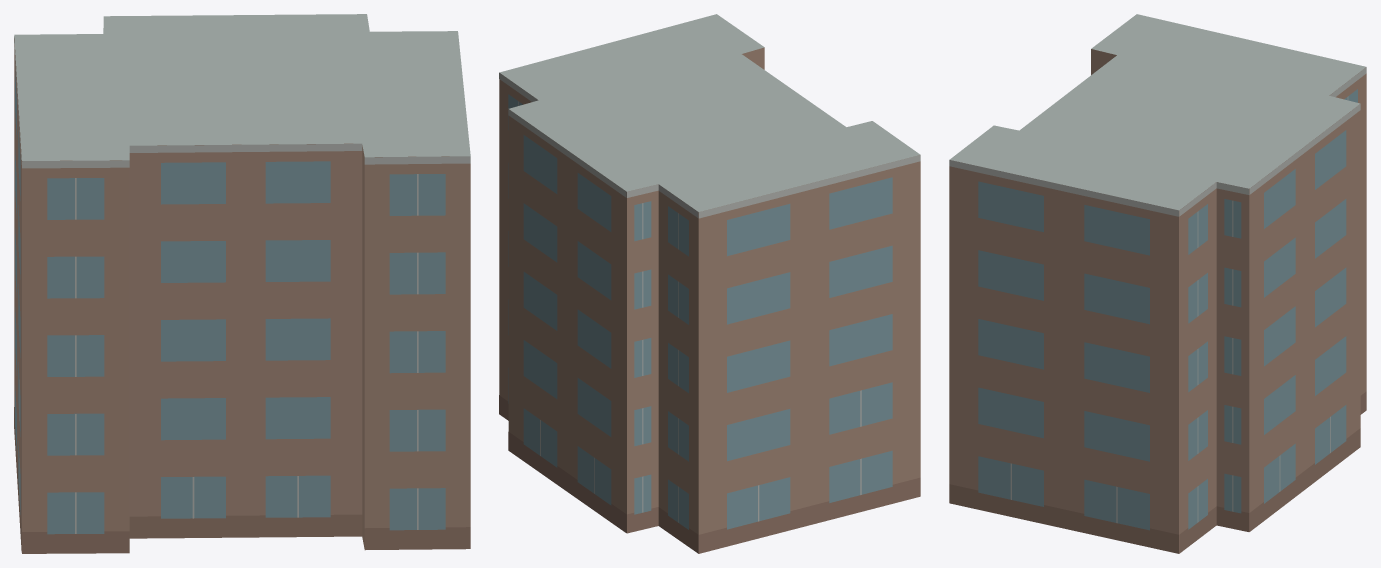
The model's file is survey-upis-32936099.glb.
3 views of the same model, side by side, from view 1: azimuth 30°, elevation 25°; view 2: azimuth 150°, elevation 25°; view 3: azimuth 270°, elevation 25° (orthographic). The views are drawn at different scales.
Visible parts, largest first — view 1: survey-upis-32936099.tmp; view 2: survey-upis-32936099.tmp; view 3: survey-upis-32936099.tmp.
Boxes of the visible parts, x1=… form: survey-upis-32936099.tmp: x1=14, y1=14, x2=470, y2=553; survey-upis-32936099.tmp: x1=499, y1=14, x2=920, y2=553; survey-upis-32936099.tmp: x1=949, y1=14, x2=1366, y2=553.
Size of the model in its own units: 15.95 by 13 by 14.32.
